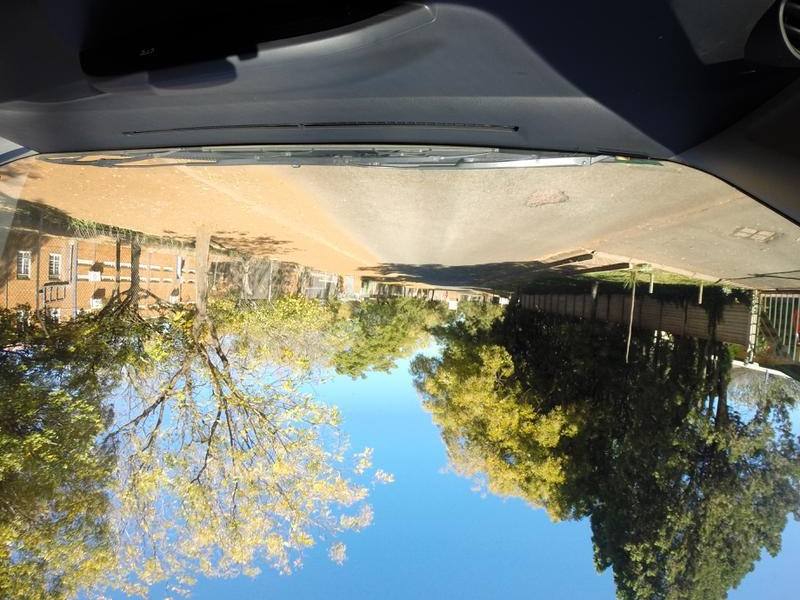pothole: (521, 180, 574, 211)
